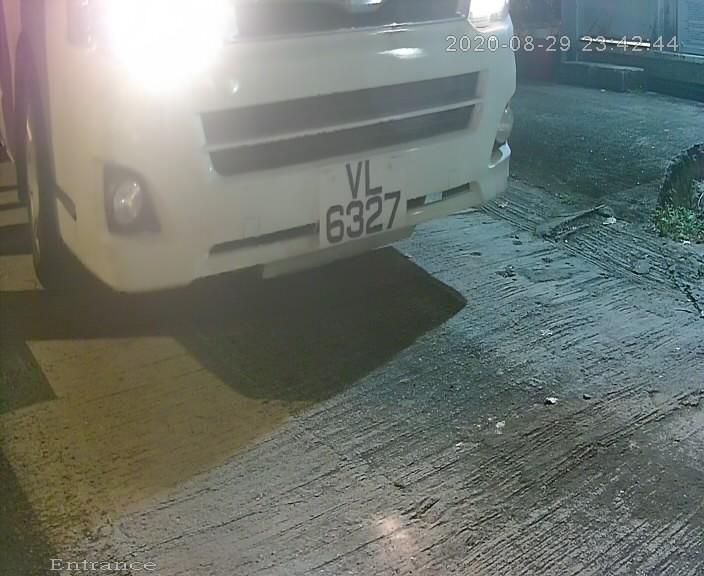License Plate: (309, 142, 412, 260)
